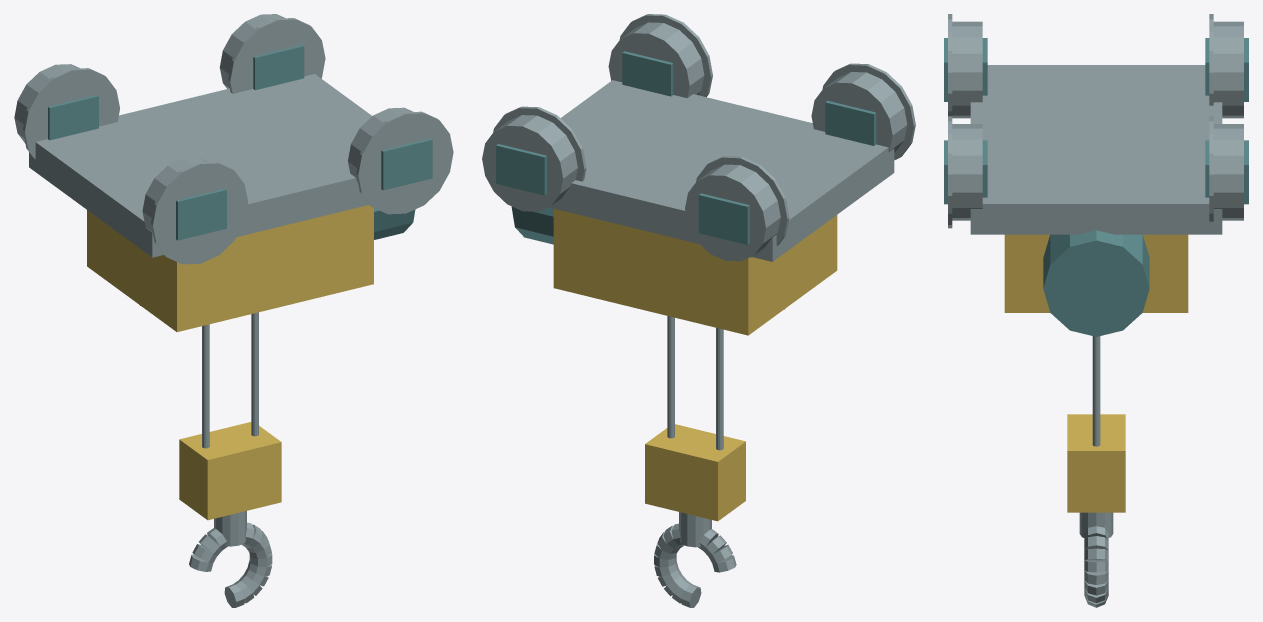
File: bridge_hoist.glb
3 renders of one model, left to right at view 1: azimuth 30°, elevation 25°; view 2: azimuth 150°, elevation 25°; view 3: azimuth 270°, elevation 25°, orthographic. The views are drawn at different scales.
Parts seen in each view (by area): view 1: bridge_hoist_SPOT_fitout_steel.001, bridge_hoist_SPOT_fitout_safety.001, bridge_hoist_SPOT_fitout_paint.001; view 2: bridge_hoist_SPOT_fitout_steel.001, bridge_hoist_SPOT_fitout_safety.001, bridge_hoist_SPOT_fitout_paint.001; view 3: bridge_hoist_SPOT_fitout_steel.001, bridge_hoist_SPOT_fitout_safety.001, bridge_hoist_SPOT_fitout_paint.001.
Part boxes in pixels (left/top/right/bottom): bridge_hoist_SPOT_fitout_steel.001: left=14, top=14, right=453, bottom=607; bridge_hoist_SPOT_fitout_safety.001: left=87, top=205, right=373, bottom=520; bridge_hoist_SPOT_fitout_paint.001: left=48, top=44, right=432, bottom=240; bridge_hoist_SPOT_fitout_steel.001: left=482, top=14, right=915, bottom=607; bridge_hoist_SPOT_fitout_safety.001: left=553, top=208, right=837, bottom=521; bridge_hoist_SPOT_fitout_paint.001: left=496, top=51, right=876, bottom=244; bridge_hoist_SPOT_fitout_steel.001: left=948, top=14, right=1243, bottom=607; bridge_hoist_SPOT_fitout_safety.001: left=1004, top=234, right=1188, bottom=512; bridge_hoist_SPOT_fitout_paint.001: left=944, top=38, right=1248, bottom=336.
Bounding box in the file's own units: 0.756 × 1.22 × 0.63.
